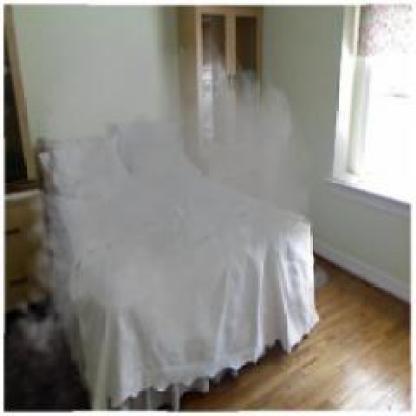Smoke: (3, 24, 362, 392)
